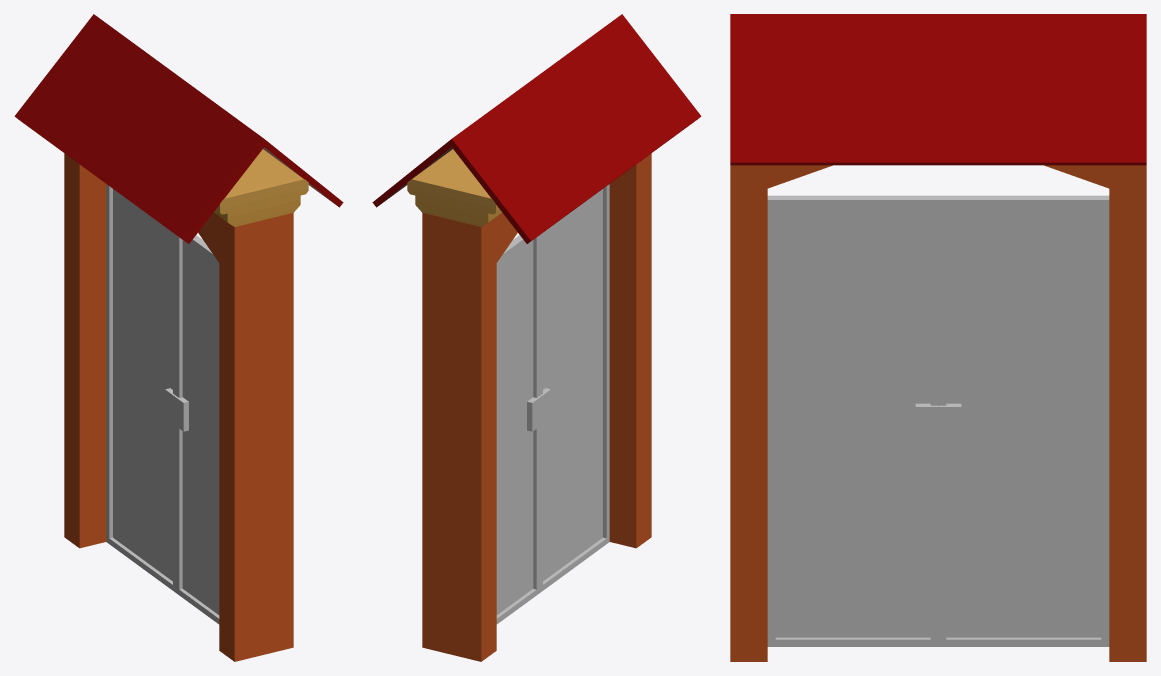
Rendered from OpenBlockWall.fbx.
The picture shows the model from 3 angles, left to right: view 1: azimuth 30°, elevation 25°; view 2: azimuth 150°, elevation 25°; view 3: azimuth 270°, elevation 25°; orthographic projection. The views are drawn at different scales.
Visible parts, largest first — view 1: BlockWalls_Open, Wing02, Wing01; view 2: BlockWalls_Open, Wing01, Wing02; view 3: BlockWalls_Open, Wing02, Wing01.
Part boxes in pixels (left/top/right/bottom): BlockWalls_Open: left=14, top=14, right=343, bottom=661; Wing02: left=106, top=184, right=175, bottom=592; Wing01: left=174, top=235, right=219, bottom=624; BlockWalls_Open: left=372, top=14, right=701, bottom=661; Wing01: left=540, top=184, right=609, bottom=592; Wing02: left=496, top=235, right=541, bottom=624; BlockWalls_Open: left=730, top=14, right=1146, bottom=661; Wing02: left=938, top=195, right=1109, bottom=646; Wing01: left=767, top=195, right=938, bottom=646.
Size of the model in its own units: 107 by 334 by 200.
